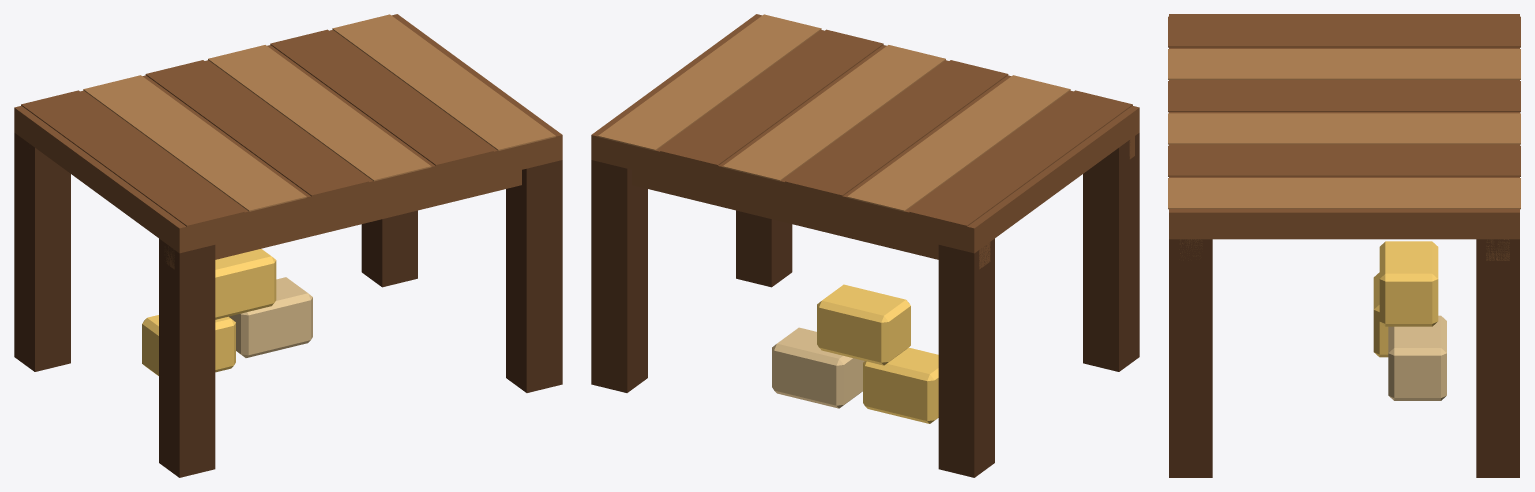
File: Shelter.fbx
3 views of the same model, side by side, from view 1: azimuth 30°, elevation 25°; view 2: azimuth 150°, elevation 25°; view 3: azimuth 270°, elevation 25° (orthographic). The views are drawn at different scales.
Parts seen in each view (by area): view 1: Detail, Frame, Deck; view 2: Detail, Frame, Deck; view 3: Detail, Frame, Deck.
Boxes of the visible parts, x1,y1,x2,y2 form: Detail: [21, 14, 555, 375]; Frame: [14, 133, 562, 477]; Deck: [14, 14, 562, 253]; Detail: [598, 14, 1132, 423]; Frame: [591, 133, 1139, 477]; Deck: [591, 14, 1139, 253]; Detail: [1168, 16, 1520, 400]; Frame: [1169, 239, 1519, 477]; Deck: [1169, 14, 1519, 239].
Size of the model in its own units: 16 by 10 by 12.
